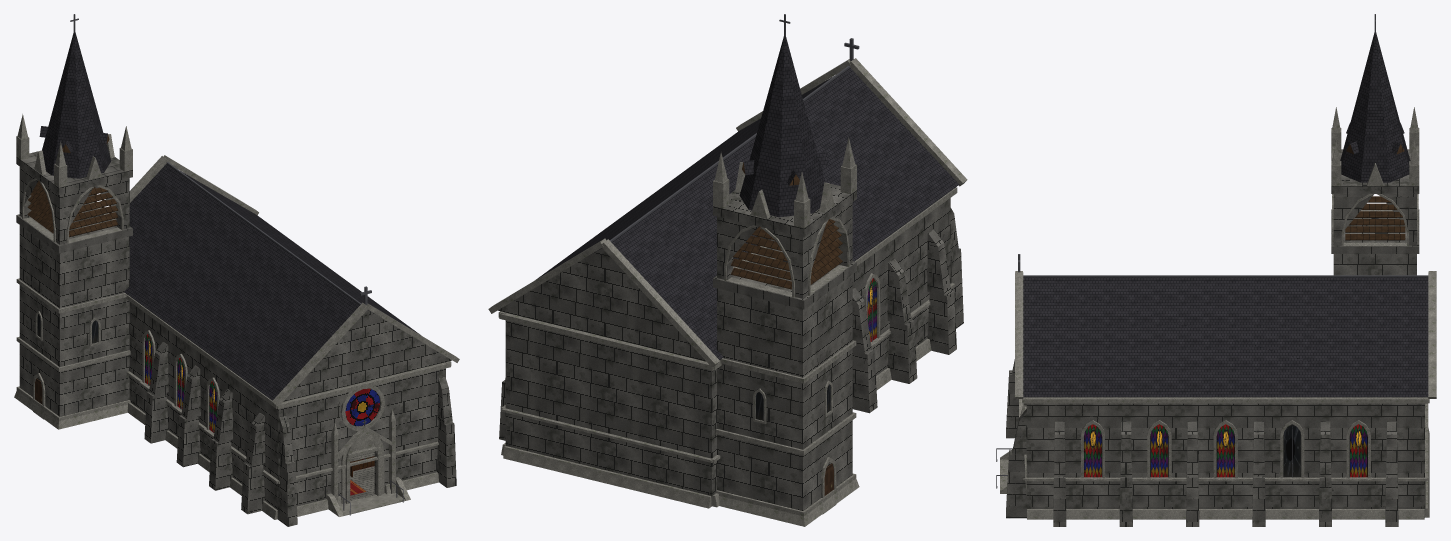
Rendered from church.glb.
3 views of the same model, side by side, from view 1: azimuth 30°, elevation 25°; view 2: azimuth 150°, elevation 25°; view 3: azimuth 270°, elevation 25° (orthographic). The views are drawn at different scales.
Visible parts, largest first — view 1: detail, shell-col; view 2: detail, shell-col; view 3: detail, shell-col.
Boxes of the visible parts, box(x1,y1,x2,y2) form: detail: box(14, 14, 459, 519); shell-col: box(16, 150, 456, 526); detail: box(488, 14, 967, 526); shell-col: box(499, 182, 963, 510); detail: box(996, 14, 1436, 519); shell-col: box(1006, 149, 1424, 526).
Size of what is drawn, in the model's own units: 18.55 by 27.2 by 26.53.
24 materials, 24 textured.
